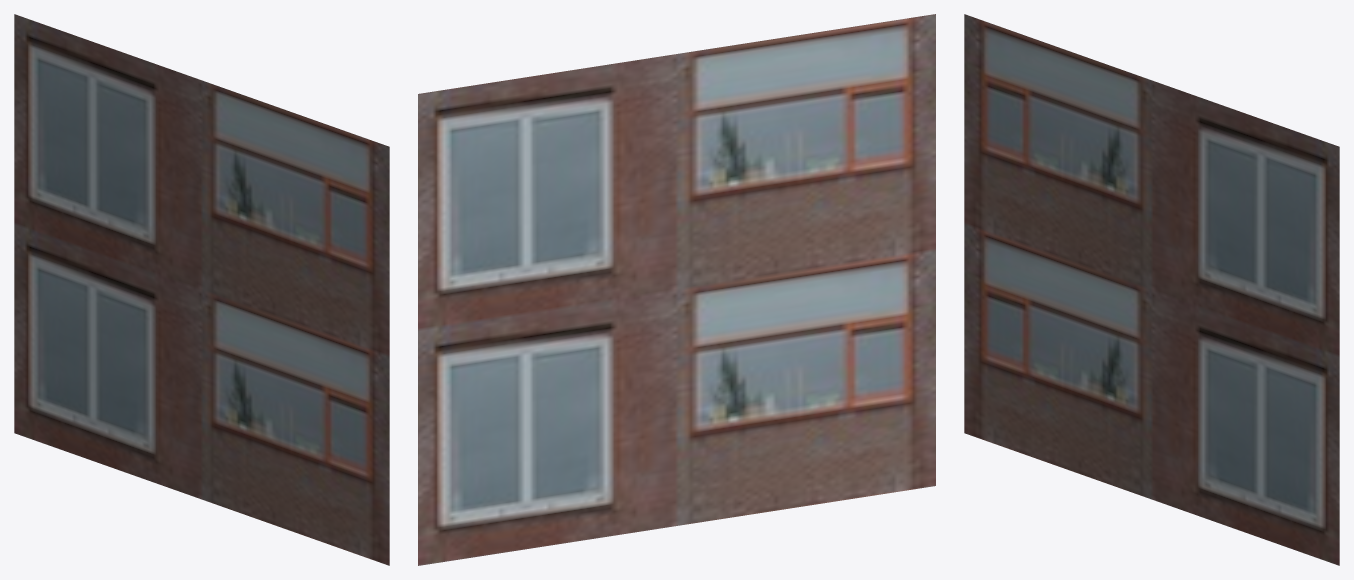
File: ResTex__2045.fbx
The picture shows the model from 3 angles, left to right: view 1: azimuth 90°, elevation 25°; view 2: azimuth 150°, elevation 25°; view 3: azimuth 270°, elevation 25°; orthographic projection. The views are drawn at different scales.
Parts seen in each view (by area): view 1: CityEngineMaterial_19_m; view 2: CityEngineMaterial_19_m; view 3: CityEngineMaterial_19_m.
Boxes of the visible parts, x1,y1,x2,y2 form: CityEngineMaterial_19_m: [14, 14, 389, 565]; CityEngineMaterial_19_m: [418, 14, 935, 565]; CityEngineMaterial_19_m: [964, 14, 1339, 565].
Size of the model in its own units: 4.08 by 6 by 4.87.
1 material, 1 textured.
